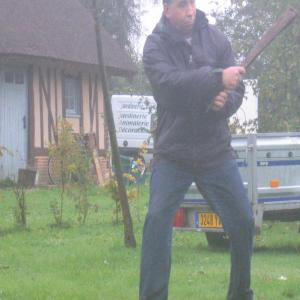Vehicle-registration-plate: (196, 212, 224, 230)
